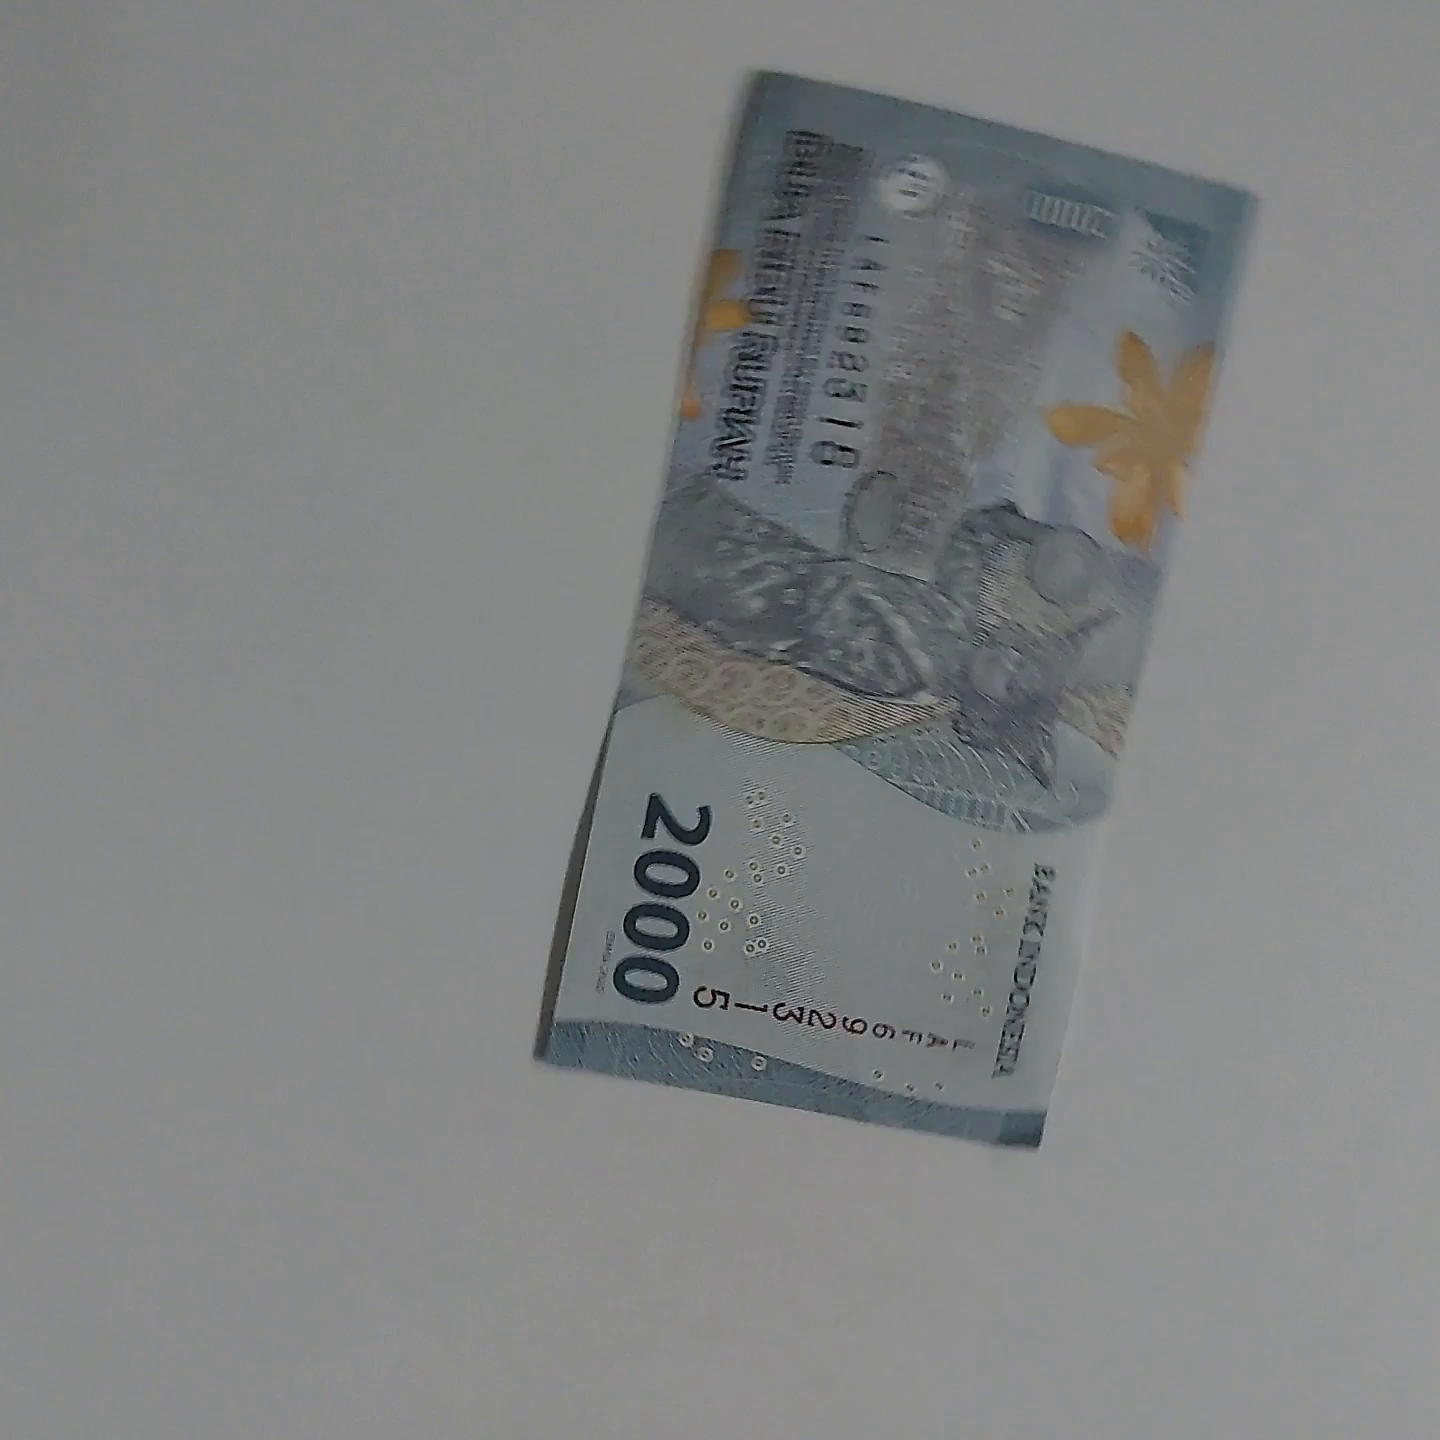2k: (737, 53, 1258, 1146)
